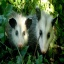opossum: (2, 13, 32, 48), (35, 9, 58, 53)
